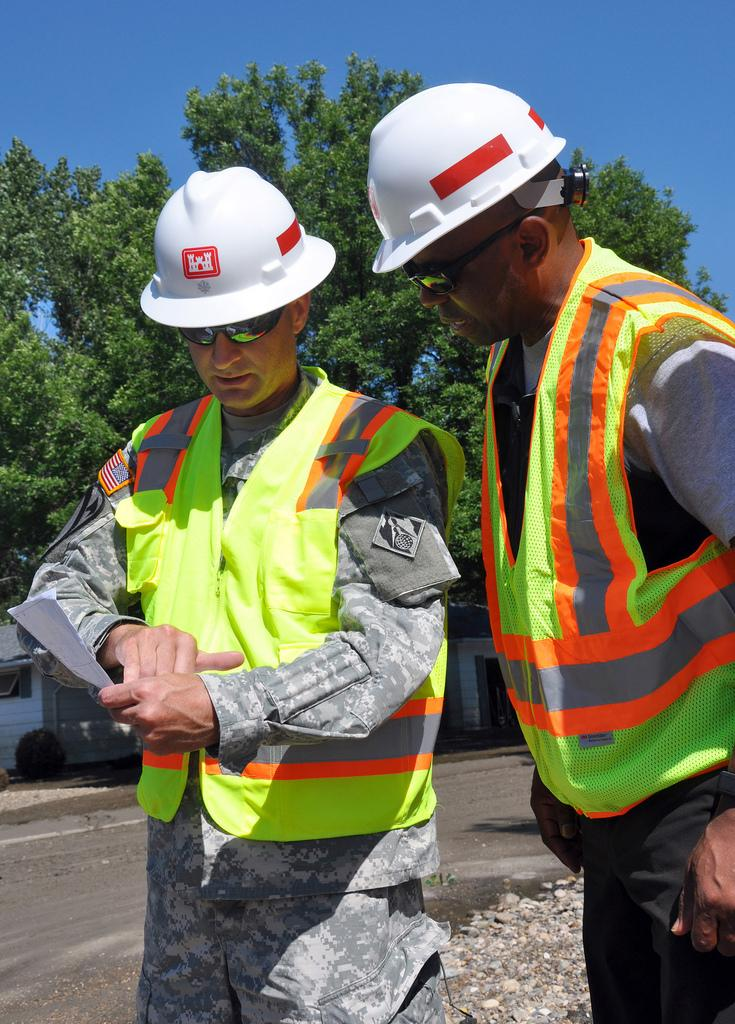helmet: (367, 83, 566, 345), (140, 167, 337, 404)
